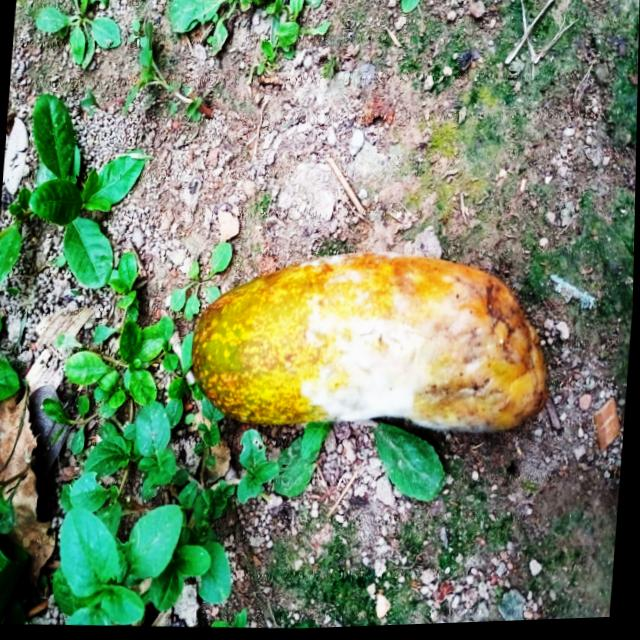Pythium-Fruit-Rot: (285, 245, 546, 449)
